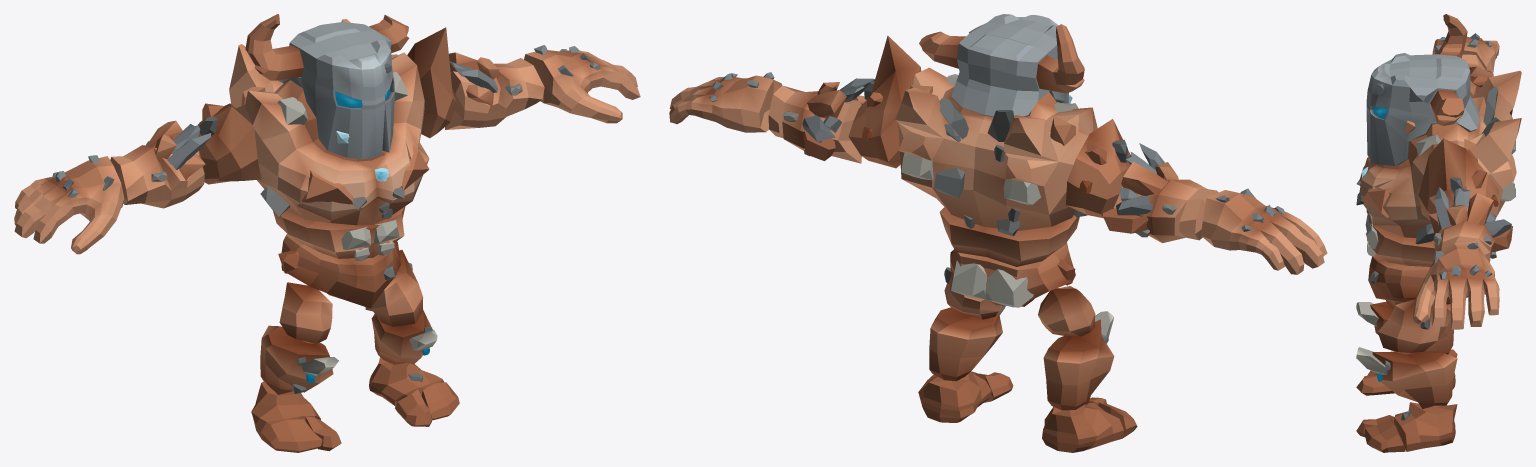
File: StoneGolem.glb
3 views of the same model, side by side, from view 1: azimuth 30°, elevation 25°; view 2: azimuth 150°, elevation 25°; view 3: azimuth 270°, elevation 25° (orthographic). The views are drawn at different scales.
Parts seen in each view (by area): view 1: BigGolem, Rocas1, Rocas2 Hombros, Rocas_NoMirros; view 2: BigGolem, Rocas2 Hombros, Rocas1, Rocas_NoMirros; view 3: BigGolem, Rocas2 Hombros, Rocas1, Rocas_NoMirros.
Boxes of the visible parts, box(x1,y1,x2,y2) form: BigGolem: box(14, 14, 640, 452); Rocas1: box(199, 54, 450, 383); Rocas2 Hombros: box(52, 45, 600, 197); Rocas_NoMirros: box(278, 60, 422, 393); BigGolem: box(669, 14, 1327, 452); Rocas2 Hombros: box(709, 72, 1285, 237); Rocas1: box(861, 74, 1127, 343); Rocas_NoMirros: box(934, 94, 1075, 285); BigGolem: box(1356, 14, 1521, 452); Rocas2 Hombros: box(1429, 33, 1512, 279); Rocas1: box(1356, 81, 1515, 381); Rocas_NoMirros: box(1362, 83, 1514, 420).
Size of the model in its own units: 2.25 by 1.41 by 0.5654.
2 materials, 2 textured.
